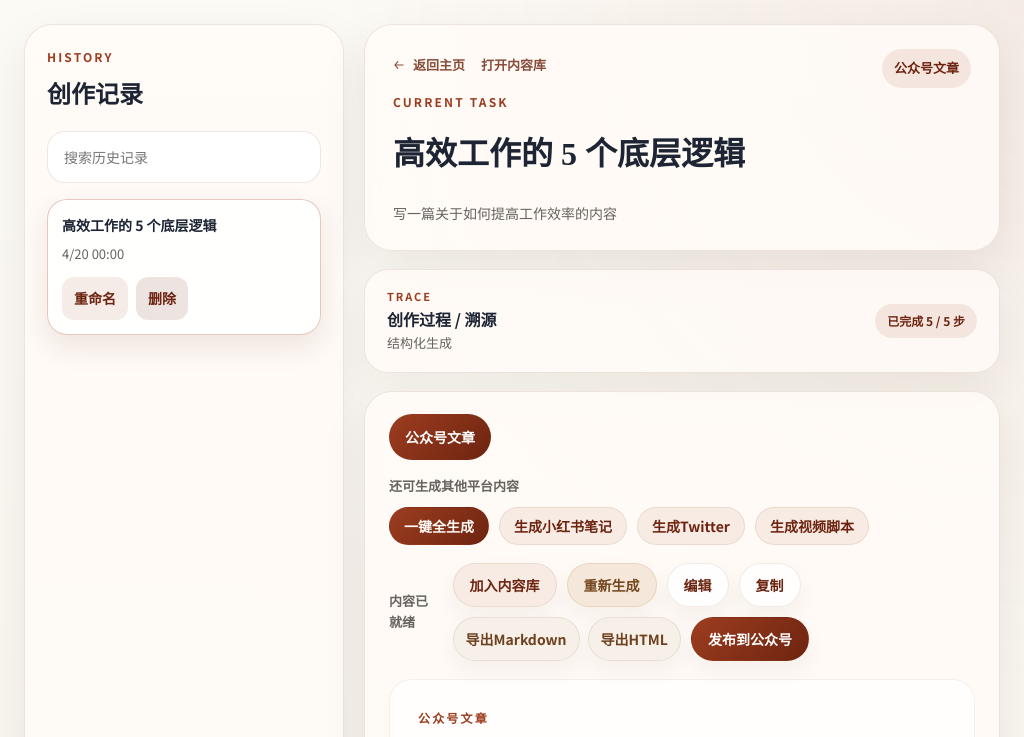
Test: wechat publish flow › opens wechat publish modal and submits selected account/type
Click the button "发布到公众号".
click(750, 639)  # box [691,617,809,661]
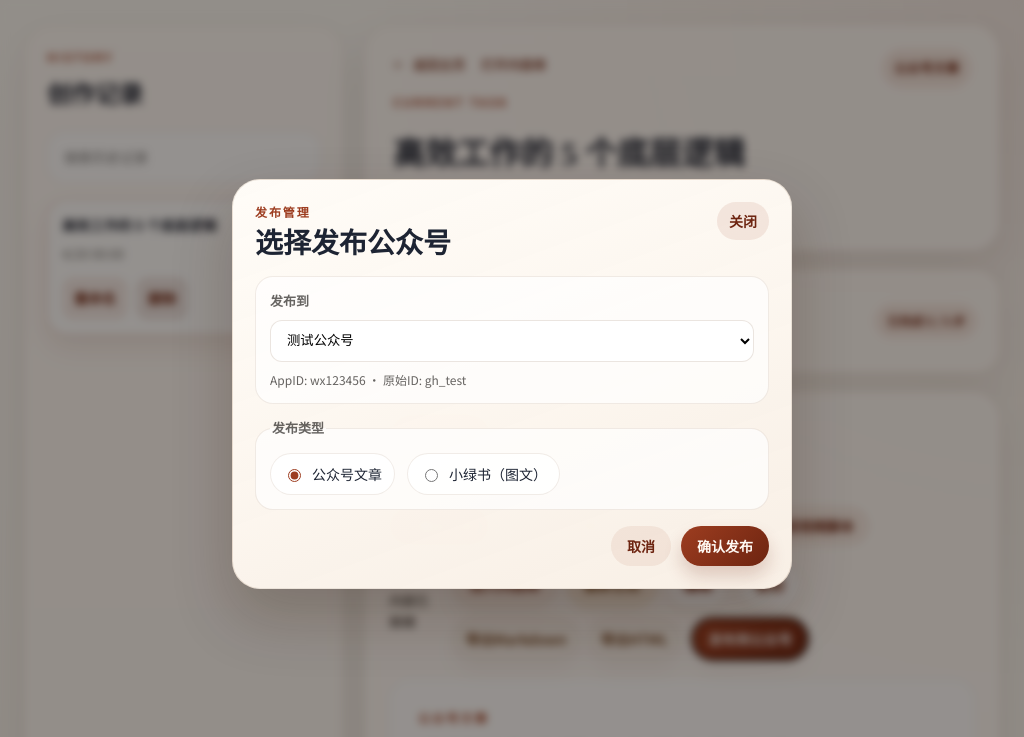
Now the heading "选择发布公众号" is shown, box [255,229,451,260]
Click the radio button labelled "小绿书（图文）".
click(432, 475)  # box [425,469,438,482]
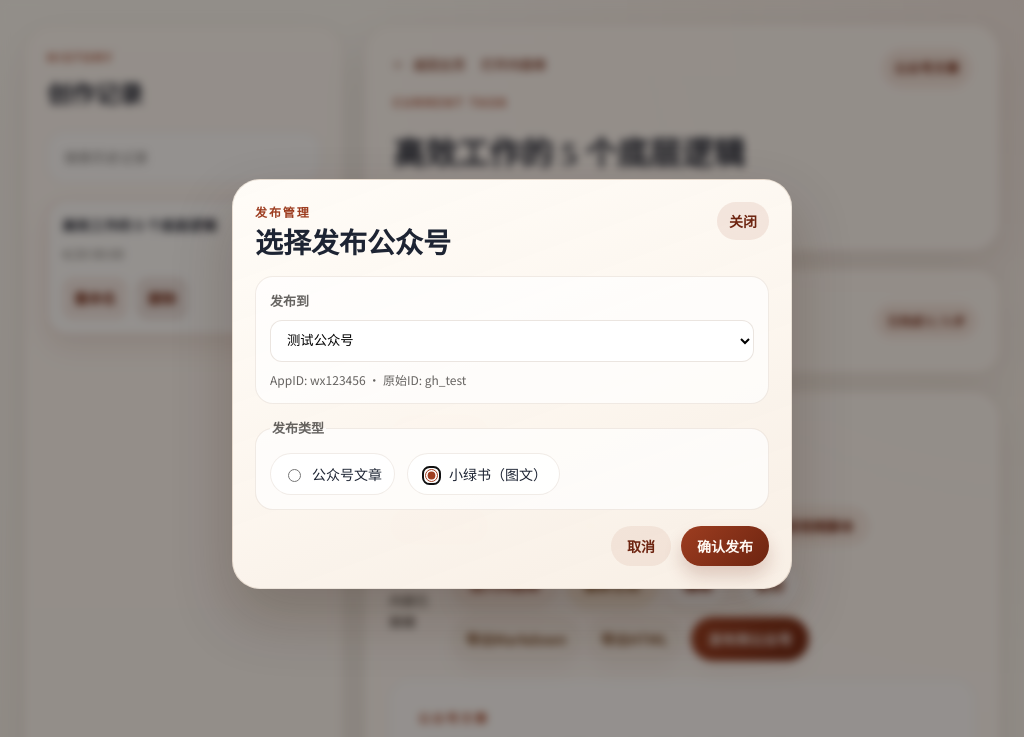
Click the button "确认发布".
click(725, 546)  # box [681,526,769,566]
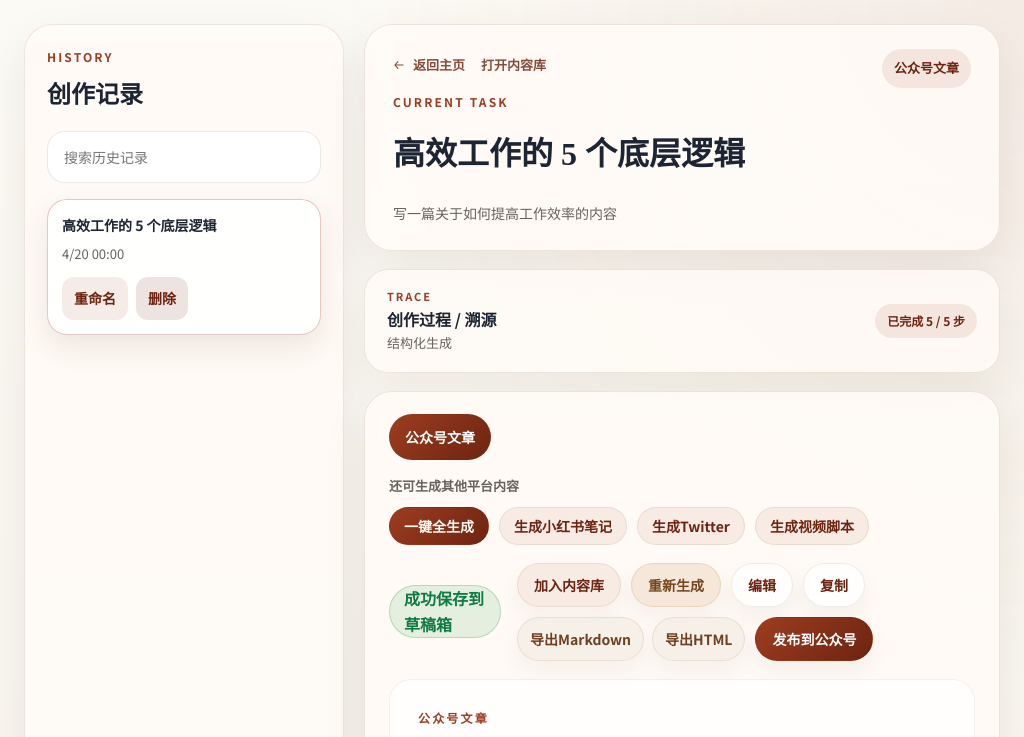
Now the text "成功保存到草稿箱" is shown, box [389,585,501,638]
